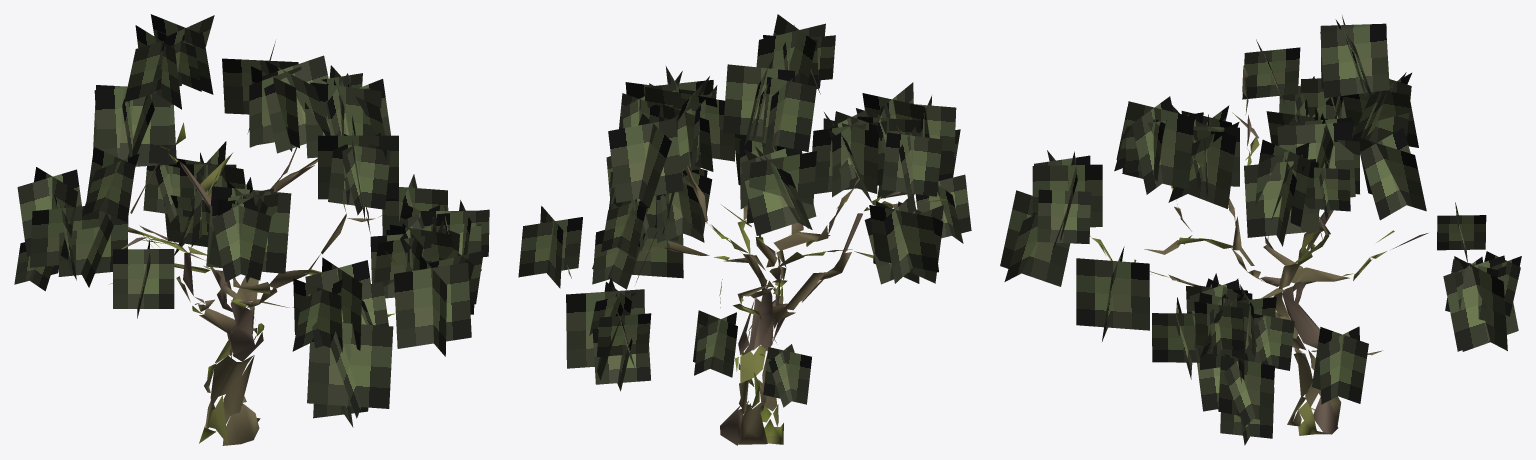
The model's file is mesquite.glb.
3 views of the same model, side by side, from view 1: azimuth 30°, elevation 25°; view 2: azimuth 150°, elevation 25°; view 3: azimuth 270°, elevation 25° (orthographic). The views are drawn at different scales.
Visible parts, largest first — view 1: cards, LO.001; view 2: cards, LO.001; view 3: cards, LO.001.
Part boxes in pixels (x1,y1,x2,y2): cards: (14, 14, 489, 427); LO.001: (109, 122, 401, 445); cards: (518, 14, 971, 407); LO.001: (567, 125, 948, 445); cards: (1000, 15, 1521, 445); LO.001: (1089, 65, 1428, 435).
Size of the model in its own units: 0.8719 by 0.802 by 0.9894.
Materials: 2 (2 with a texture image).
